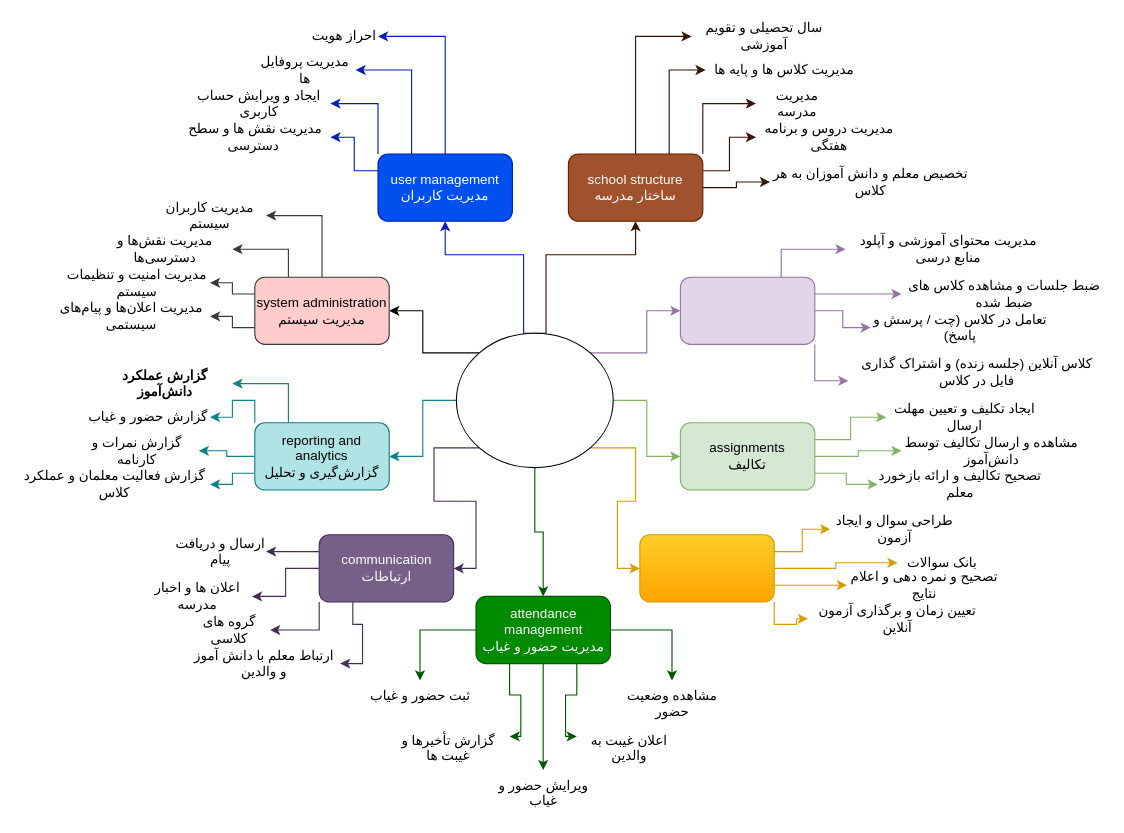
The diagram is 1124 pixels wide and 833 high, and some of its shapes have lost their labels. Here are the shapes that lost their labels. From the top down, the centre of each, then its label:
At pixel 747 310: "teaching and learning آموزش و یادگیری".
At pixel 534 400: "Online School platform".
At pixel 706 568: "exams آزمون‌ها".
